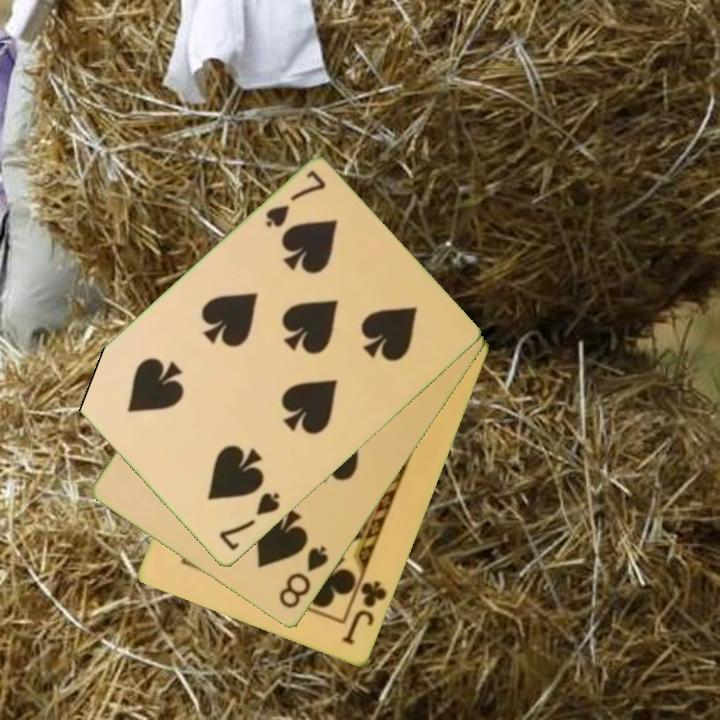7s: (215, 489, 283, 554), (261, 167, 329, 232)
8s: (275, 543, 332, 612)
Jc: (339, 577, 390, 649)
